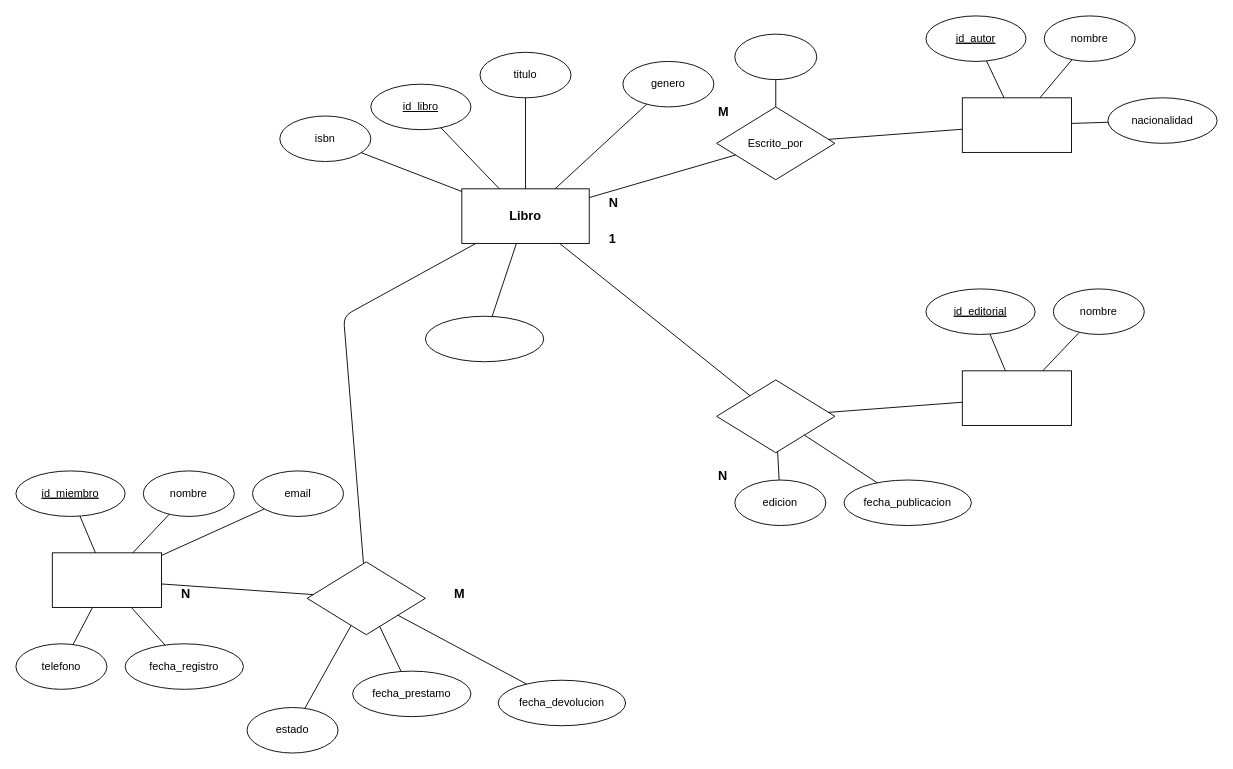
Some shapes in this 1233 by 769 pixel diagram are drawn without their labels. The shapes that lost their labels are listed below. From the top down, each one's centre as x and y in pixels, then its label:
At point 775,56: "rol".
At point 1016,124: "Autor".
At point 484,338: "disponibilidad".
At point 775,416: "Publicada_por".
At point 1016,397: "Editorial".
At point 106,579: "Miembro".
At point 365,598: "Préstamo".
